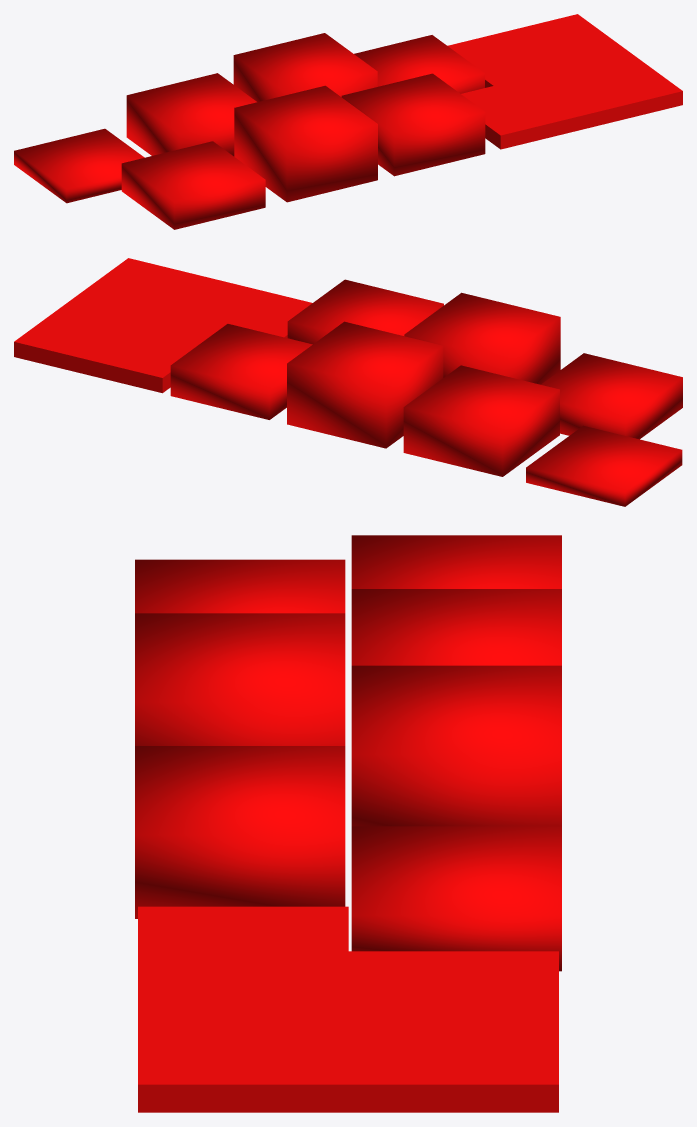
The model's file is steppingstones_v2.dae.
3 renders of one model, top to bottom at view 1: azimuth 30°, elevation 25°; view 2: azimuth 150°, elevation 25°; view 3: azimuth 270°, elevation 25°, orthographic. The views are drawn at different scales.
Parts seen in each view (by area): view 1: node_007, node_003, node_005, node_001, node_002, node_004, node, node_006; view 2: node_007, node_004, node_002, node_003, node_006, node_001, node, node_005; view 3: node_007, node_004, node_005, node_003, node_006, node_002, node_001, node.
Part boxes in pixels (<box>): node_007: <box>447,14,682,149</box>; node_003: <box>234,85,377,202</box>; node_005: <box>341,73,485,176</box>; node_001: <box>121,141,265,229</box>; node_002: <box>126,73,256,156</box>; node_004: <box>233,33,377,101</box>; node: <box>14,128,144,203</box>; node_006: <box>354,35,484,93</box>; node_007: <box>14,258,312,393</box>; node_004: <box>287,321,443,448</box>; node_002: <box>403,365,559,476</box>; node_003: <box>404,292,560,384</box>; node_006: <box>170,324,312,419</box>; node_001: <box>541,353,682,439</box>; node: <box>526,425,682,506</box>; node_005: <box>287,279,443,344</box>; node_007: <box>138,906,558,1112</box>; node_004: <box>351,665,561,826</box>; node_005: <box>135,746,345,918</box>; node_003: <box>135,613,345,745</box>; node_006: <box>351,826,561,971</box>; node_002: <box>351,589,561,665</box>; node_001: <box>135,559,345,613</box>; node: <box>351,535,561,588</box>.
Bounding box in the file's own units: 2.1 × 0.69 × 0.2.
